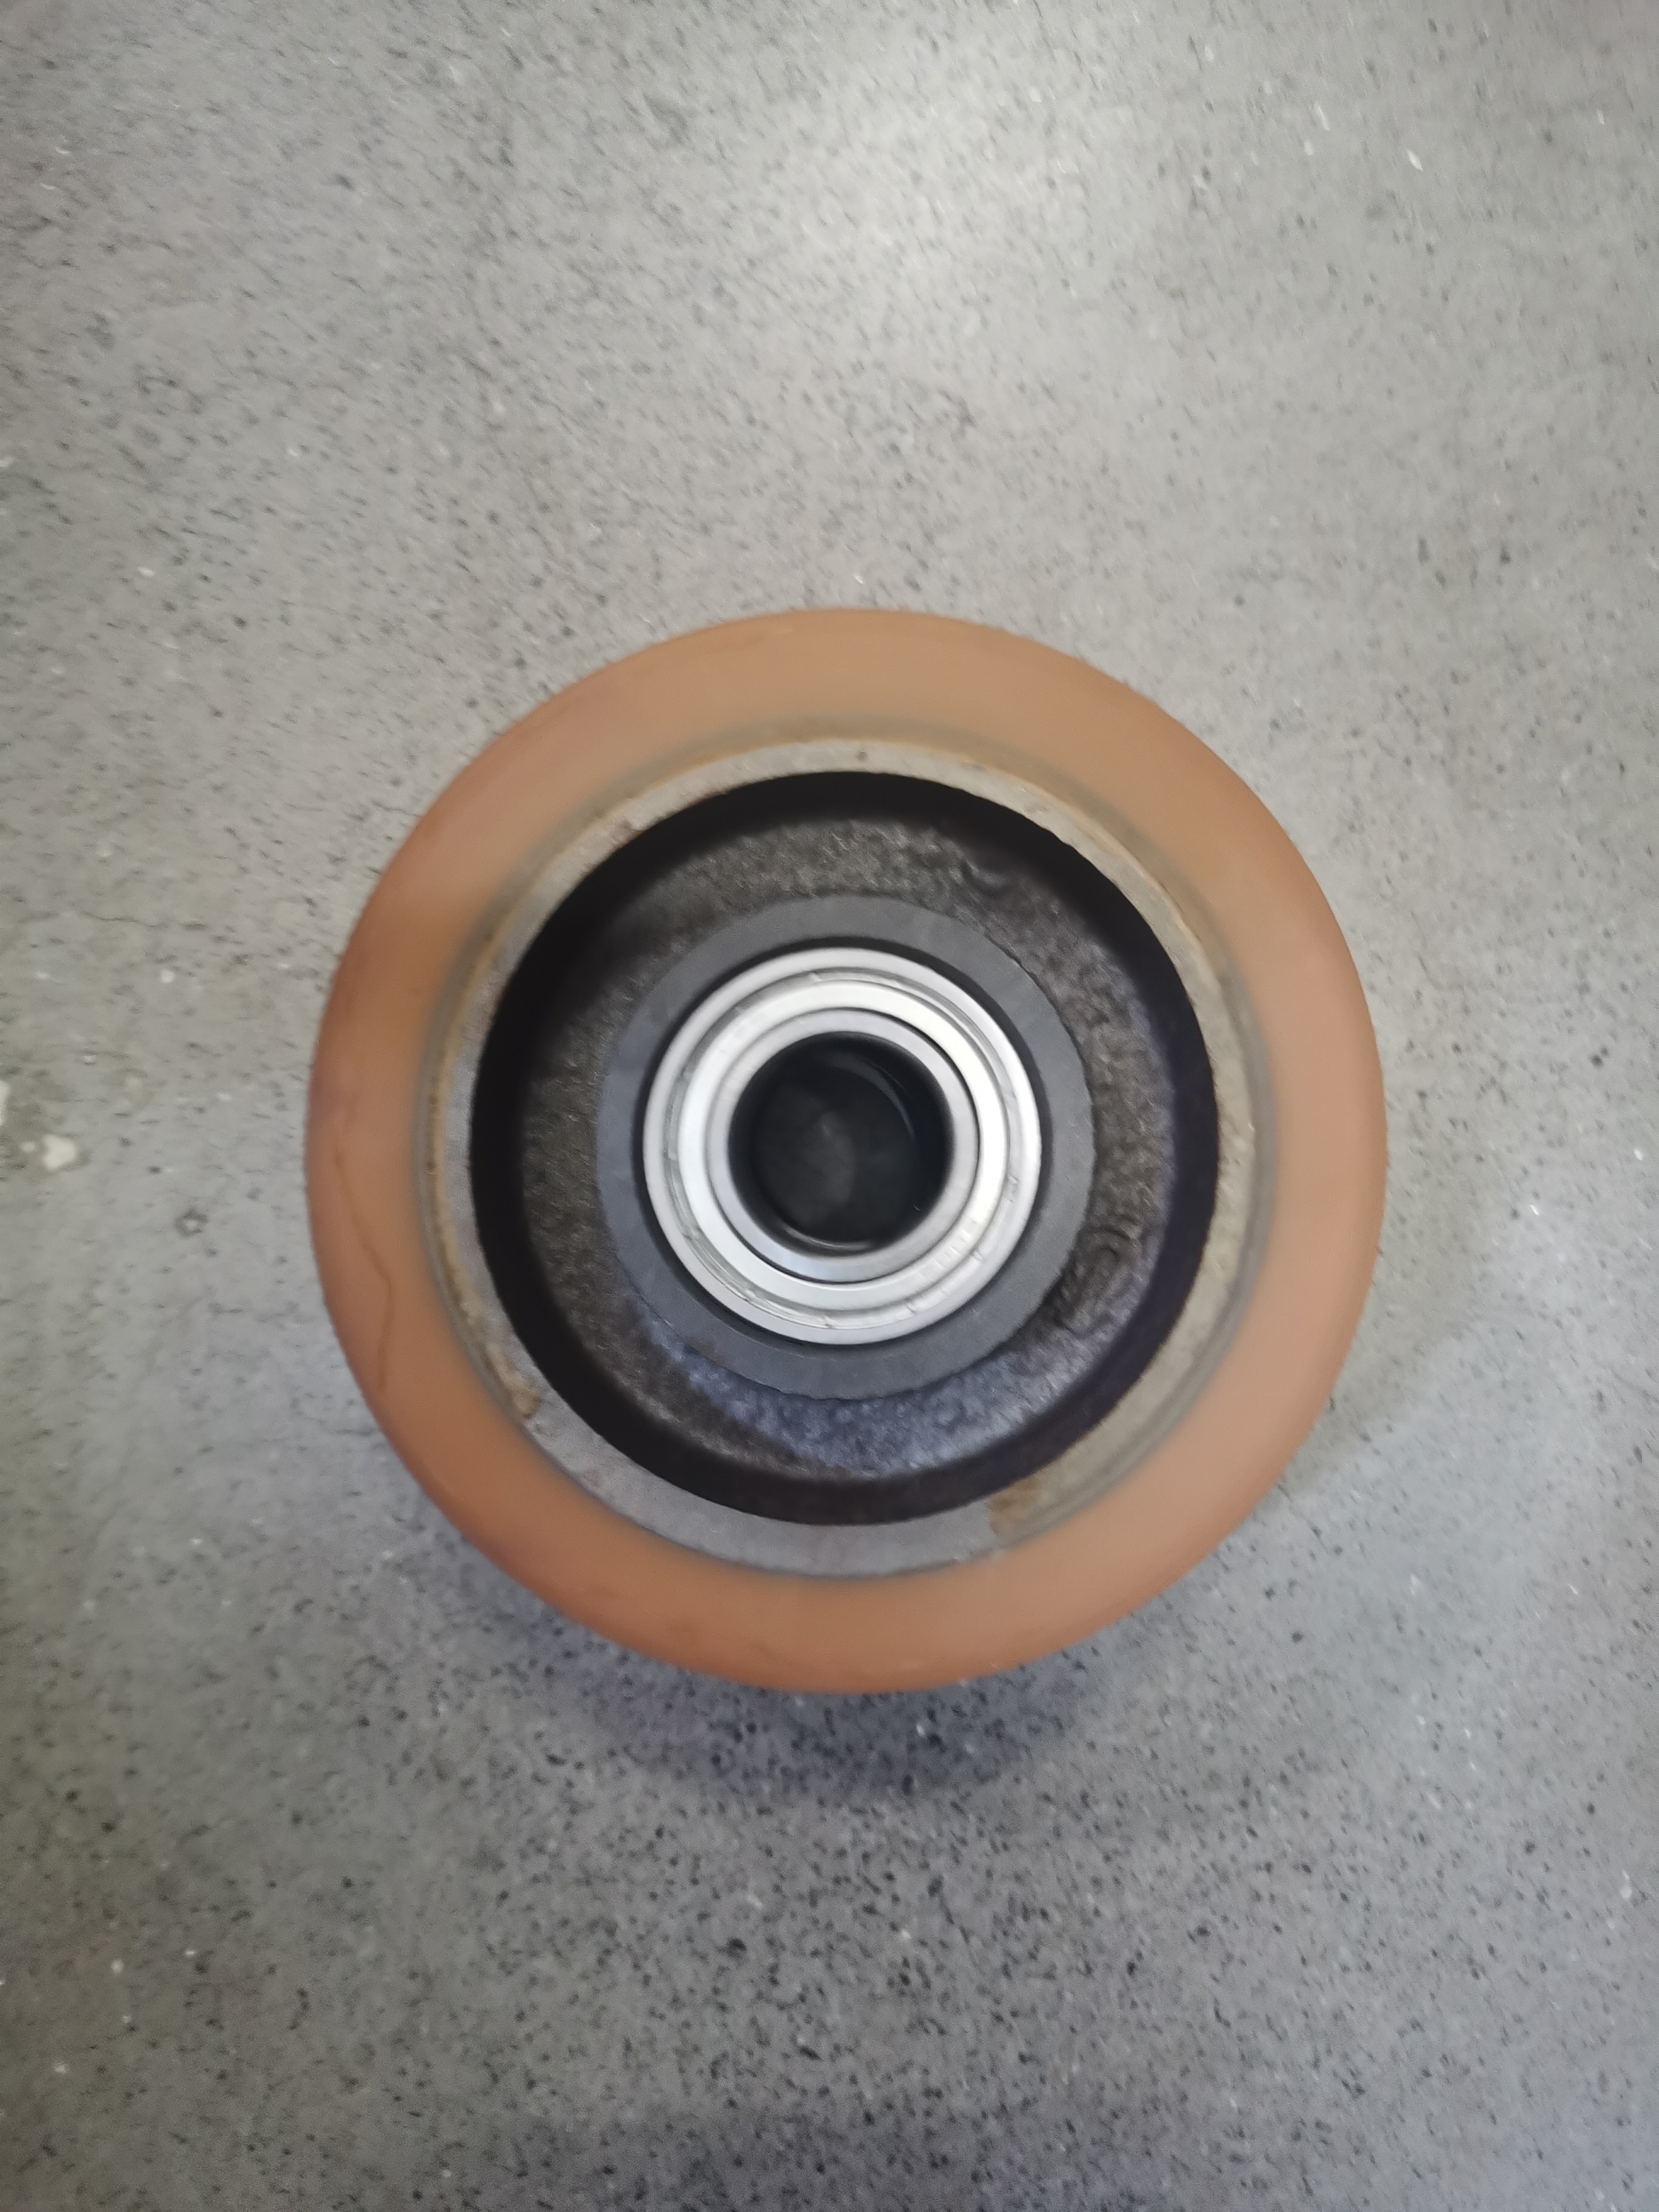good_wheel: (371, 573, 1427, 1716)
